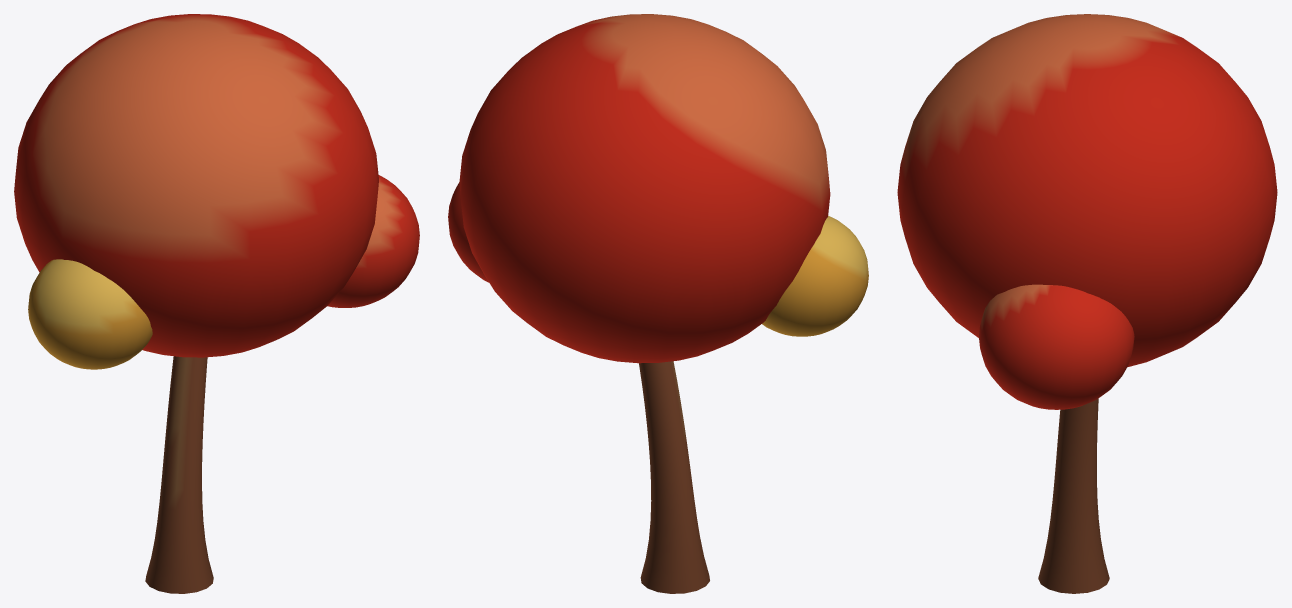
Rendered from lollipop-tree-106.obj.
The picture shows the model from 3 angles, left to right: view 1: azimuth 30°, elevation 25°; view 2: azimuth 150°, elevation 25°; view 3: azimuth 270°, elevation 25°; orthographic projection. The views are drawn at different scales.
Parts seen in each view (by area): view 1: tree; view 2: tree; view 3: tree.
Part boxes in pixels (x1,y1,x2,y2): tree: (14, 14, 419, 593); tree: (448, 14, 868, 593); tree: (897, 14, 1277, 593).
Bounding box in the file's own units: 369 × 492 × 304.
